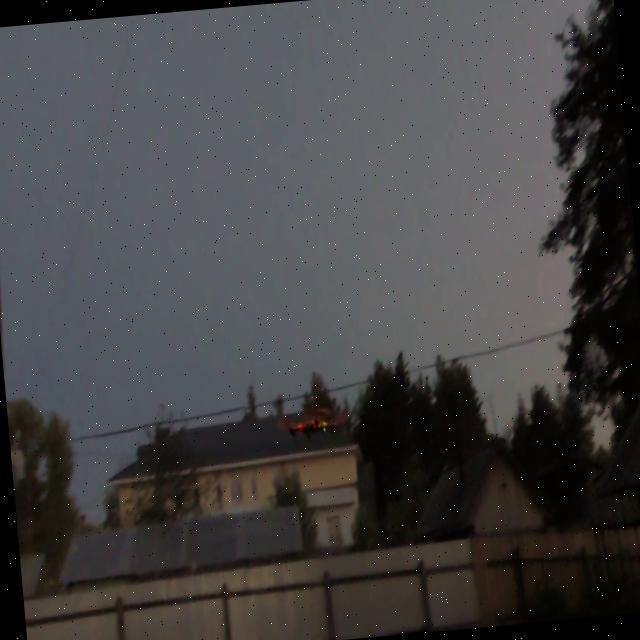Drons: (274, 402, 356, 446)
